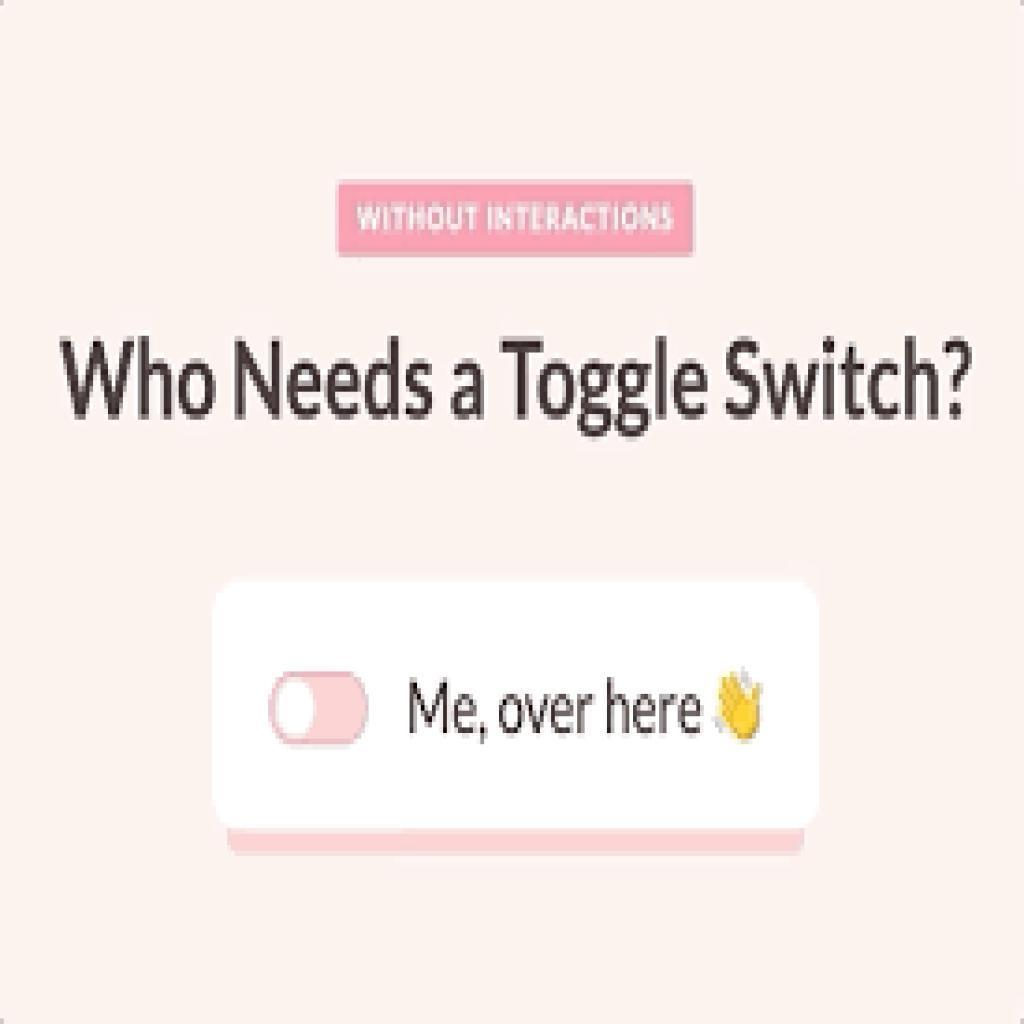button: (336, 184, 693, 254)
icon: (709, 666, 776, 752)
switch: (270, 669, 371, 752)
